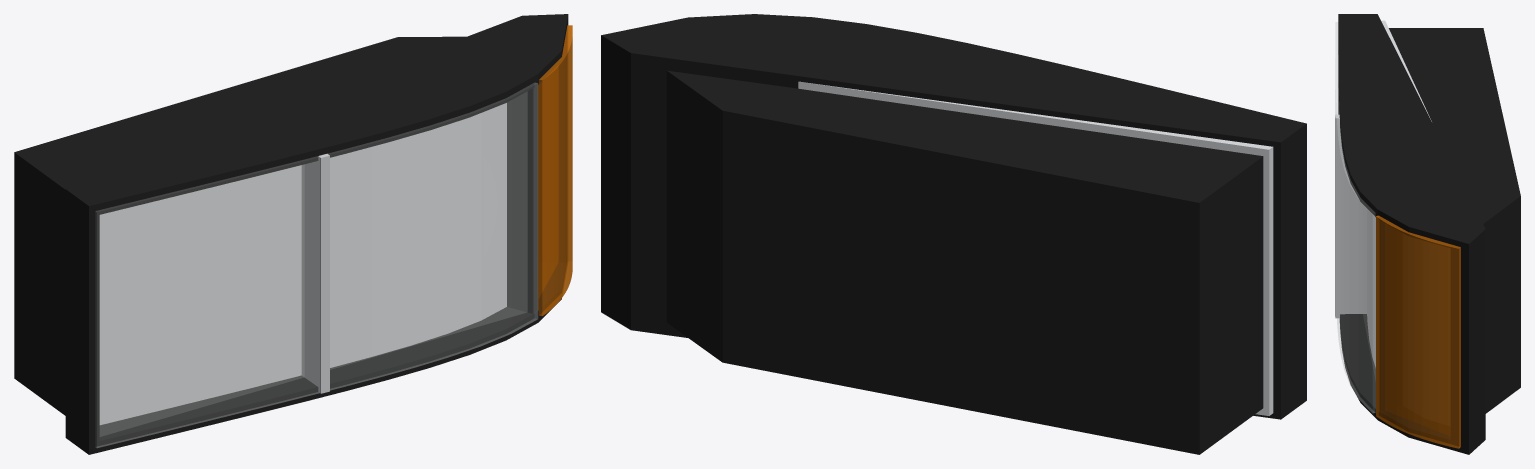
Rendered from farol_picape.glb.
The picture shows the model from 3 angles, left to right: view 1: azimuth 30°, elevation 25°; view 2: azimuth 150°, elevation 25°; view 3: azimuth 270°, elevation 25°; orthographic projection. The views are drawn at different scales.
Visible parts, largest first — view 1: farol_picape_lente_farol, farol_picape_plastico_preto, farol_picape_refletor, farol_picape_lente_pisca, farol_picape_cromado; view 2: farol_picape_plastico_preto, farol_picape_refletor; view 3: farol_picape_plastico_preto, farol_picape_lente_pisca, farol_picape_lente_farol, farol_picape_cromado, farol_picape_refletor.
Boxes of the visible parts, x1,y1,x2,y2 form: farol_picape_lente_farol: (96, 83, 537, 447); farol_picape_plastico_preto: (14, 14, 568, 454); farol_picape_refletor: (99, 103, 506, 424); farol_picape_lente_pisca: (538, 25, 572, 316); farol_picape_cromado: (301, 153, 329, 393); farol_picape_plastico_preto: (601, 14, 1306, 454); farol_picape_refletor: (798, 81, 1273, 415); farol_picape_plastico_preto: (1338, 14, 1520, 454); farol_picape_lente_pisca: (1376, 215, 1460, 448); farol_picape_lente_farol: (1335, 22, 1375, 412); farol_picape_cromado: (1335, 114, 1366, 318); farol_picape_refletor: (1367, 20, 1431, 367).
Bounding box in the file's own units: 0.3604 × 0.154 × 0.123.
